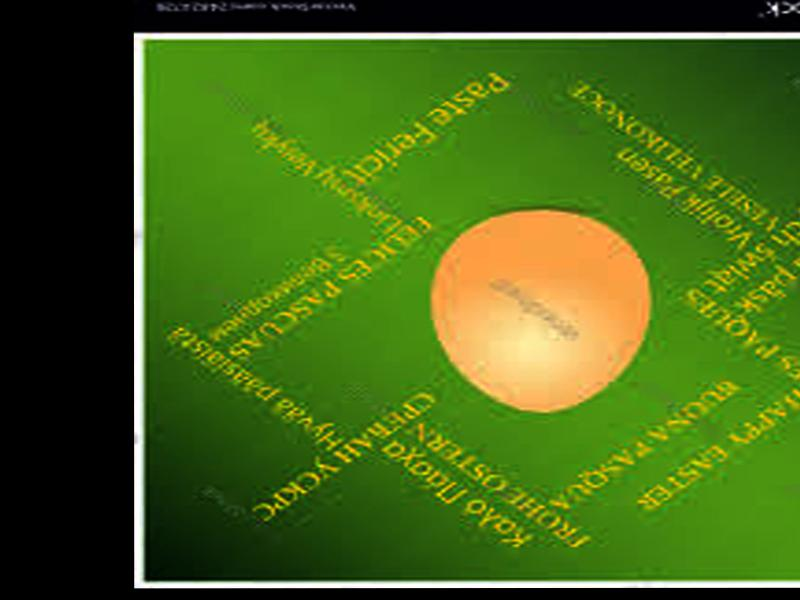Eggs: (429, 211, 648, 407)
